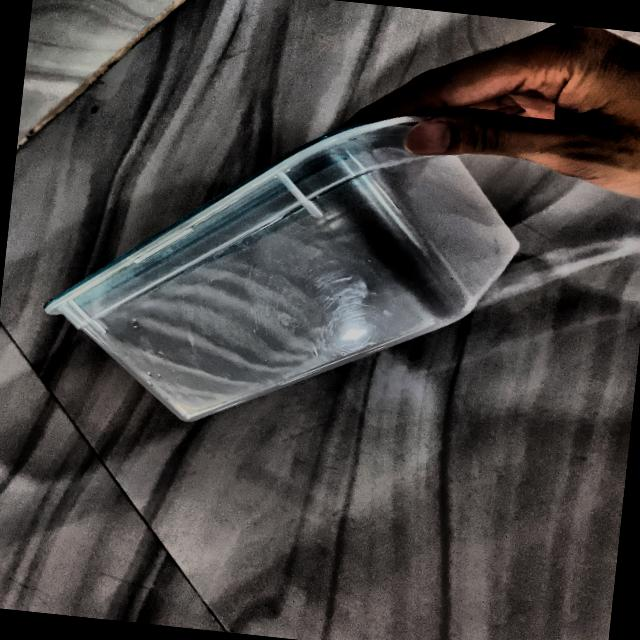plastic container: (39, 24, 556, 470)
